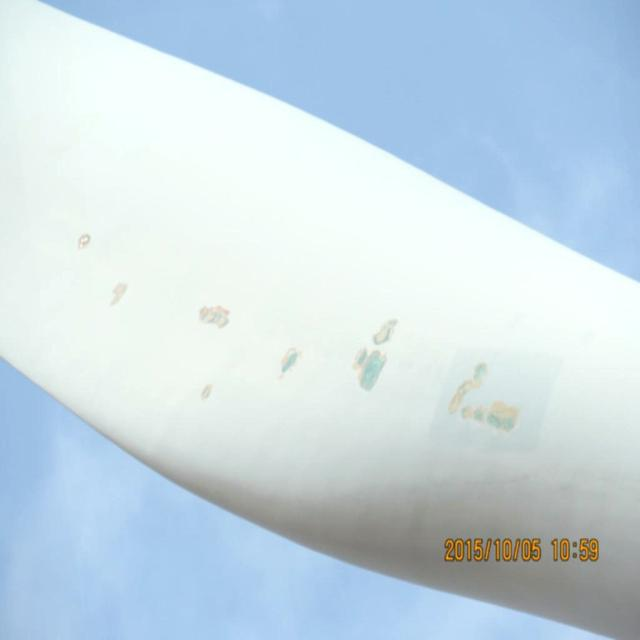surface_peeling: (445, 359, 519, 432), (349, 316, 399, 394), (200, 301, 232, 328), (278, 351, 300, 373), (198, 379, 214, 399)
